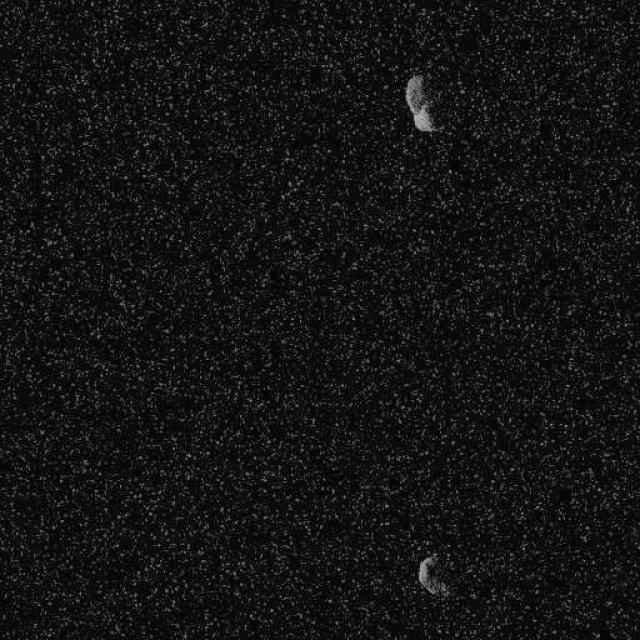D2: (404, 72, 440, 132), (416, 554, 452, 598)
